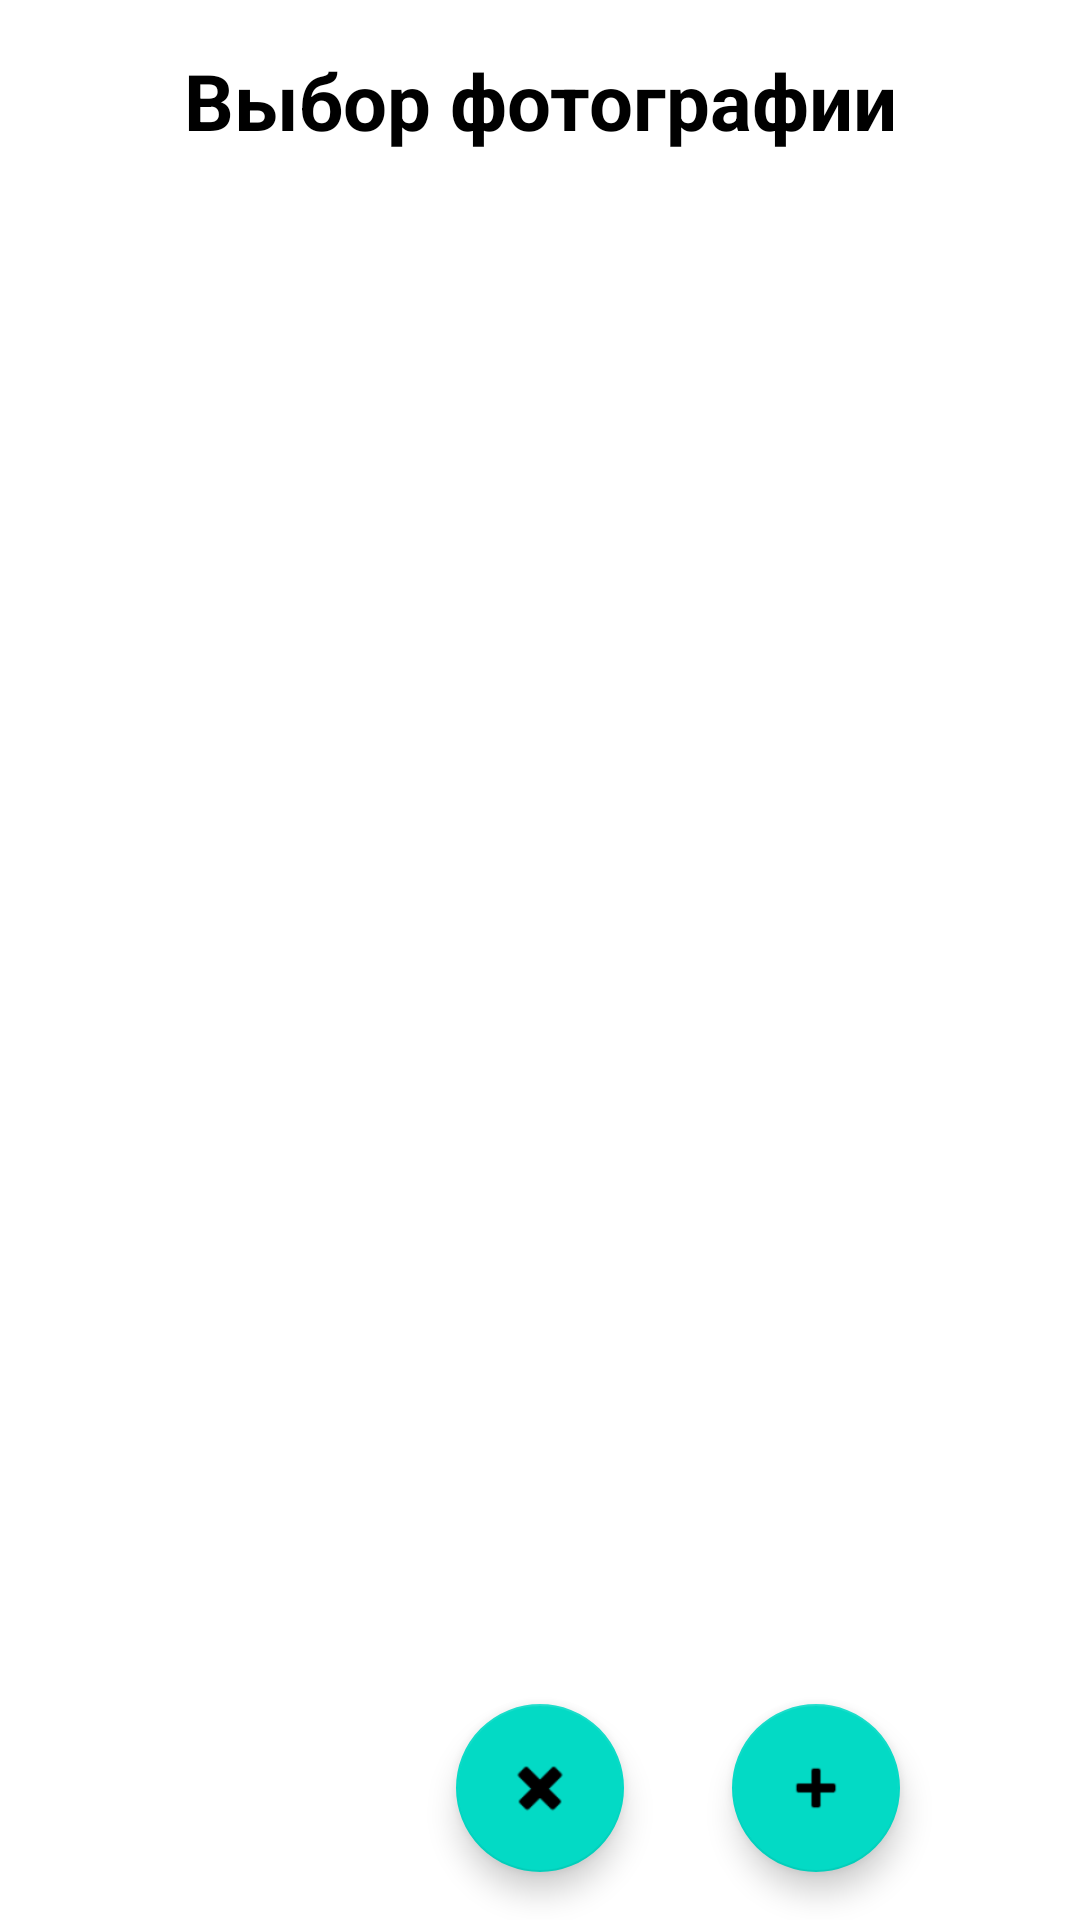

Screen size 1080px x 1920px. Icon name, then its box in pixels as (x1, y1, x2, y2):
add: (732, 1704, 900, 1872)
delete: (456, 1704, 624, 1872)
